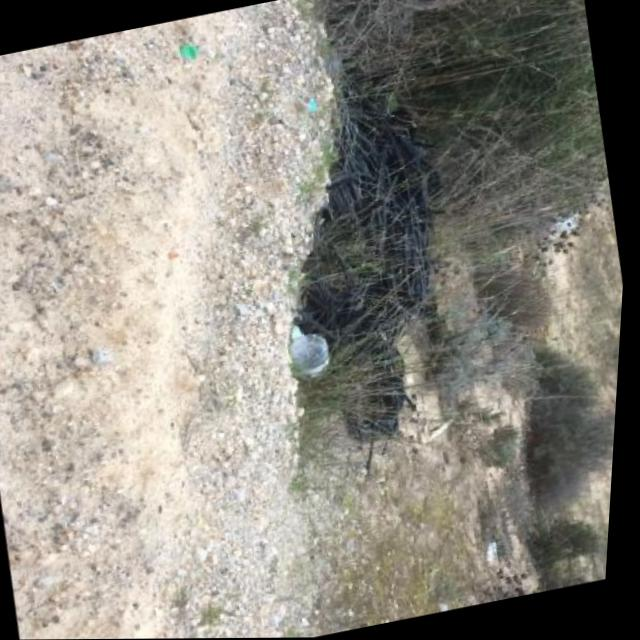plastic: (284, 331, 335, 384), (176, 42, 199, 64), (304, 100, 316, 114)
